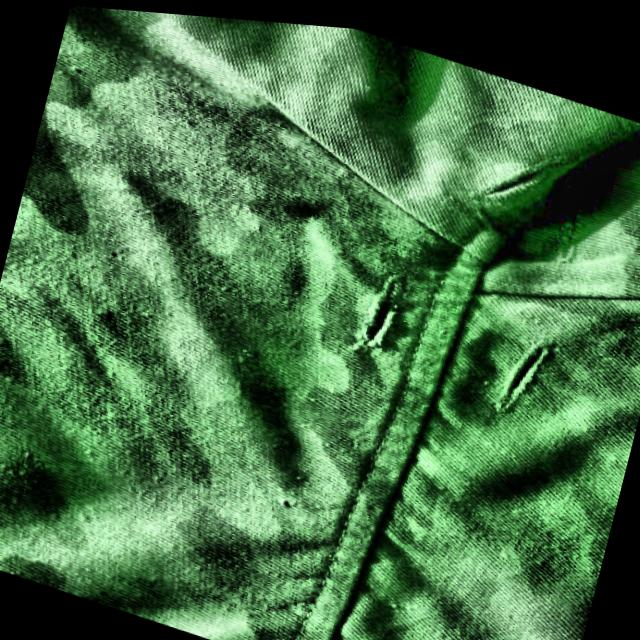Hole: (481, 304, 562, 431)
